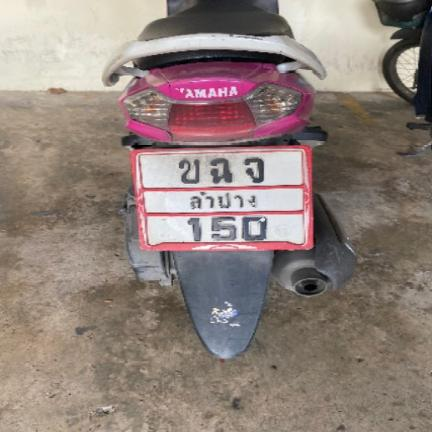0: (243, 215, 270, 241)
1: (183, 216, 207, 244)
5: (207, 215, 237, 242)
A02: (177, 158, 204, 184)
A08: (241, 156, 266, 184)
A09: (207, 157, 235, 185)
LPG: (183, 191, 258, 209)
